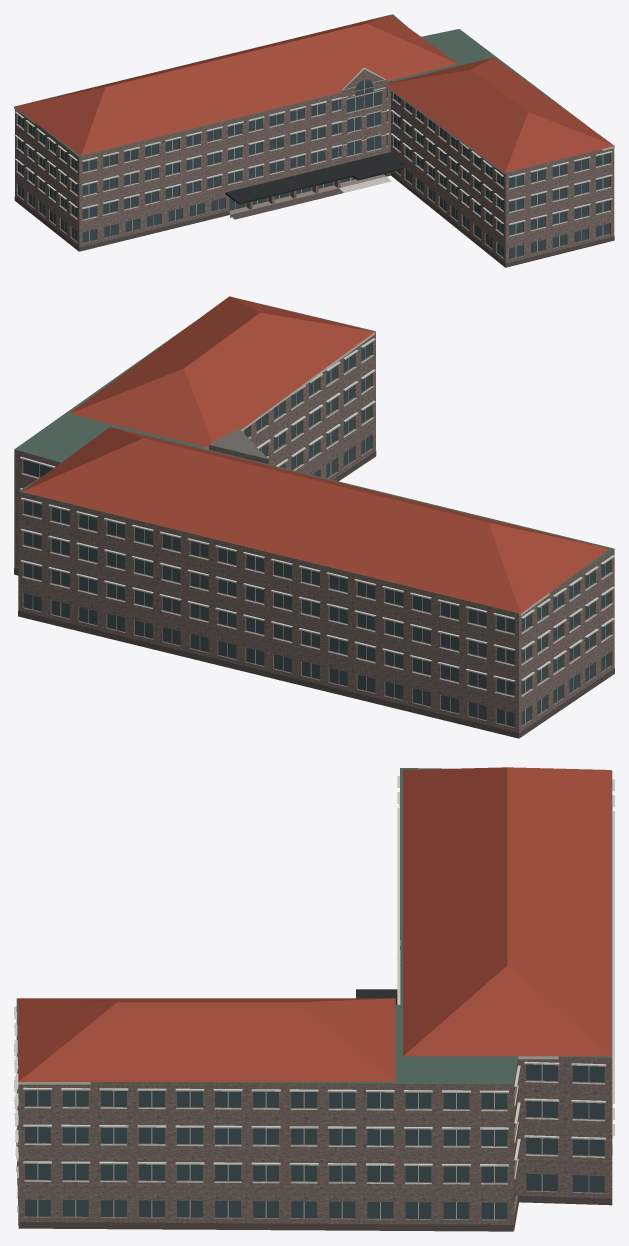
3 renders of one model, top to bottom at view 1: azimuth 30°, elevation 25°; view 2: azimuth 150°, elevation 25°; view 3: azimuth 270°, elevation 25°, orthographic. The views are drawn at different scales.
Visible parts, largest first — view 1: mohyeon-468432126__roofAccent, mohyeon-468432126__wall, mohyeon-468432126__glass, mohyeon-468432126__trim, mohyeon-468432126__canopy, mohyeon-468432126__base, mohyeon-468432126__roof, mohyeon-468432126__frame, mohyeon-468432126__entranceThreshold_0; view 2: mohyeon-468432126__roofAccent, mohyeon-468432126__wall, mohyeon-468432126__glass, mohyeon-468432126__trim, mohyeon-468432126__roof, mohyeon-468432126__base, mohyeon-468432126__frame; view 3: mohyeon-468432126__roofAccent, mohyeon-468432126__wall, mohyeon-468432126__glass, mohyeon-468432126__trim, mohyeon-468432126__roof, mohyeon-468432126__base, mohyeon-468432126__frame.
Boxes of the visible parts, x1,y1,x2,y2 form: mohyeon-468432126__roofAccent: [14, 15, 614, 172]; mohyeon-468432126__wall: [15, 69, 614, 267]; mohyeon-468432126__glass: [18, 79, 609, 258]; mohyeon-468432126__trim: [14, 67, 614, 236]; mohyeon-468432126__canopy: [225, 152, 404, 204]; mohyeon-468432126__base: [14, 172, 614, 267]; mohyeon-468432126__roof: [16, 14, 584, 173]; mohyeon-468432126__frame: [21, 80, 603, 257]; mohyeon-468432126__entranceThreshold_0: [229, 174, 386, 217]; mohyeon-468432126__roofAccent: [21, 296, 609, 613]; mohyeon-468432126__wall: [14, 331, 614, 737]; mohyeon-468432126__glass: [23, 342, 610, 726]; mohyeon-468432126__trim: [20, 332, 614, 697]; mohyeon-468432126__roof: [14, 305, 613, 613]; mohyeon-468432126__base: [14, 451, 614, 738]; mohyeon-468432126__frame: [32, 346, 605, 724]; mohyeon-468432126__roofAccent: [18, 767, 611, 1081]; mohyeon-468432126__wall: [16, 934, 612, 1229]; mohyeon-468432126__glass: [25, 1064, 604, 1219]; mohyeon-468432126__trim: [14, 776, 614, 1184]; mohyeon-468432126__roof: [16, 768, 612, 1231]; mohyeon-468432126__base: [16, 1143, 612, 1231]; mohyeon-468432126__frame: [37, 1064, 589, 1219].
Size of the model in its own units: 61.42 by 17.8 by 48.94.
Materials: 10 (1 with a texture image).
